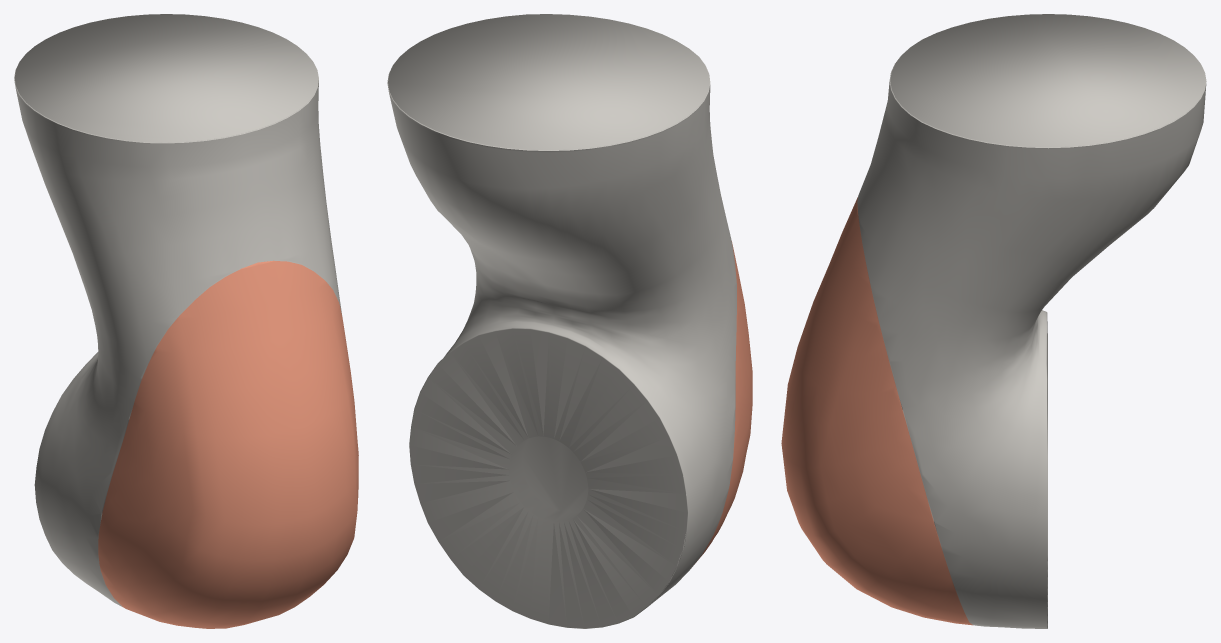
The picture shows the model from 3 angles, left to right: view 1: azimuth 30°, elevation 25°; view 2: azimuth 150°, elevation 25°; view 3: azimuth 270°, elevation 25°; orthographic projection. The views are drawn at different scales.
Parts seen in each view (by area): view 1: LinkN4.002; view 2: LinkN4.002; view 3: LinkN4.002.
Boxes of the visible parts, <box> form: LinkN4.002: <box>14,14,358,628</box>; LinkN4.002: <box>387,14,752,628</box>; LinkN4.002: <box>781,14,1206,628</box>.
Bounding box in the file's own units: 0.1359 × 0.1824 × 0.2521.
